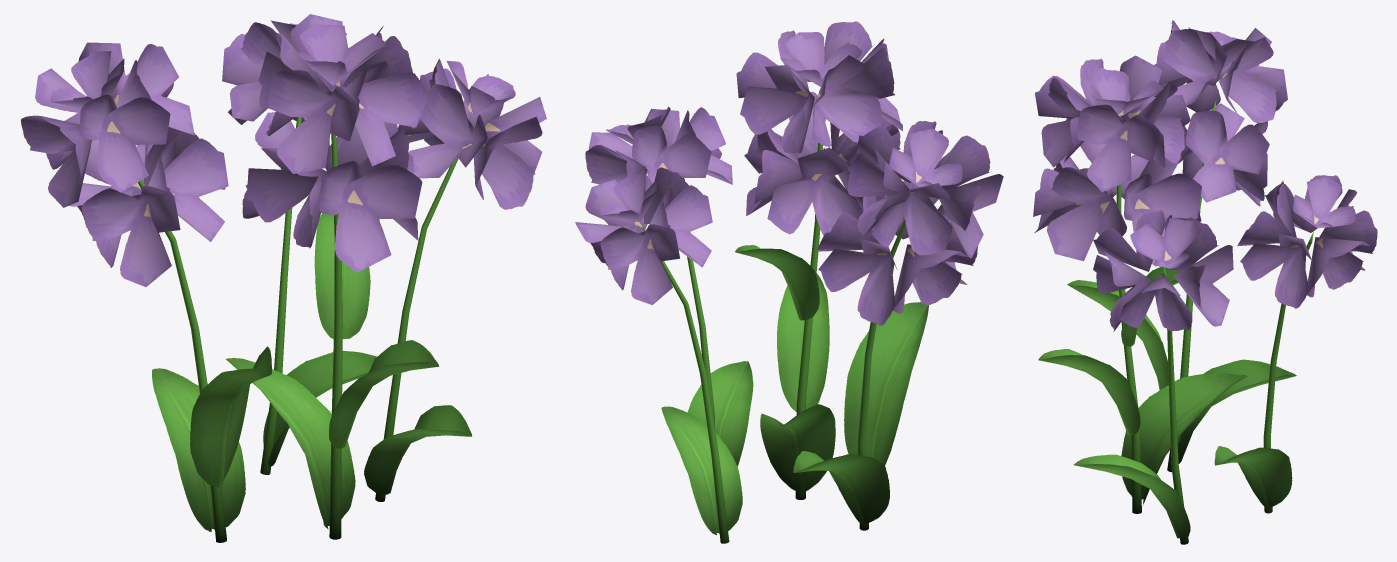
File: Flower_2_Group.glb
3 renders of one model, left to right at view 1: azimuth 30°, elevation 25°; view 2: azimuth 150°, elevation 25°; view 3: azimuth 270°, elevation 25°, orthographic. The views are drawn at different scales.
Parts seen in each view (by area): view 1: Flower_2_Group; view 2: Flower_2_Group; view 3: Flower_2_Group.
Boxes of the visible parts, <box> form: Flower_2_Group: <box>21,14,546,542</box>; Flower_2_Group: <box>575,21,1003,543</box>; Flower_2_Group: <box>1033,20,1377,544</box>.
Bounding box in the file's own units: 1.52 × 1.57 × 1.14.
Materials: 2 (2 with a texture image).
